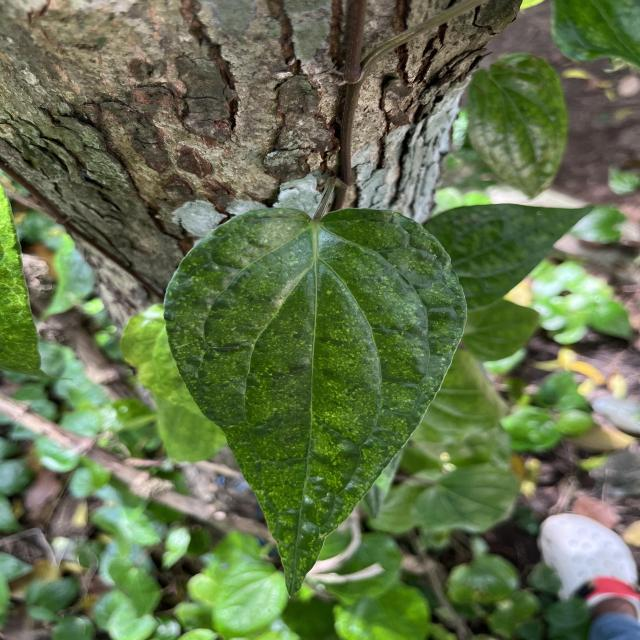Piper betle: (160, 205, 470, 600)
